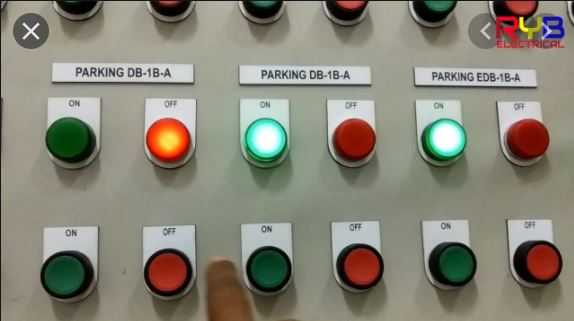Green_Led_Off: (243, 243, 296, 298), (42, 117, 101, 165), (39, 250, 94, 300), (432, 240, 481, 291)
Green_Led_On: (241, 114, 293, 164)
Red_Led_Off: (140, 246, 198, 296), (334, 241, 389, 293), (515, 238, 566, 288), (332, 116, 379, 166), (506, 118, 553, 164)
Red_Led_On: (140, 117, 200, 163)
Yellow_Led_On: (420, 117, 475, 163)
